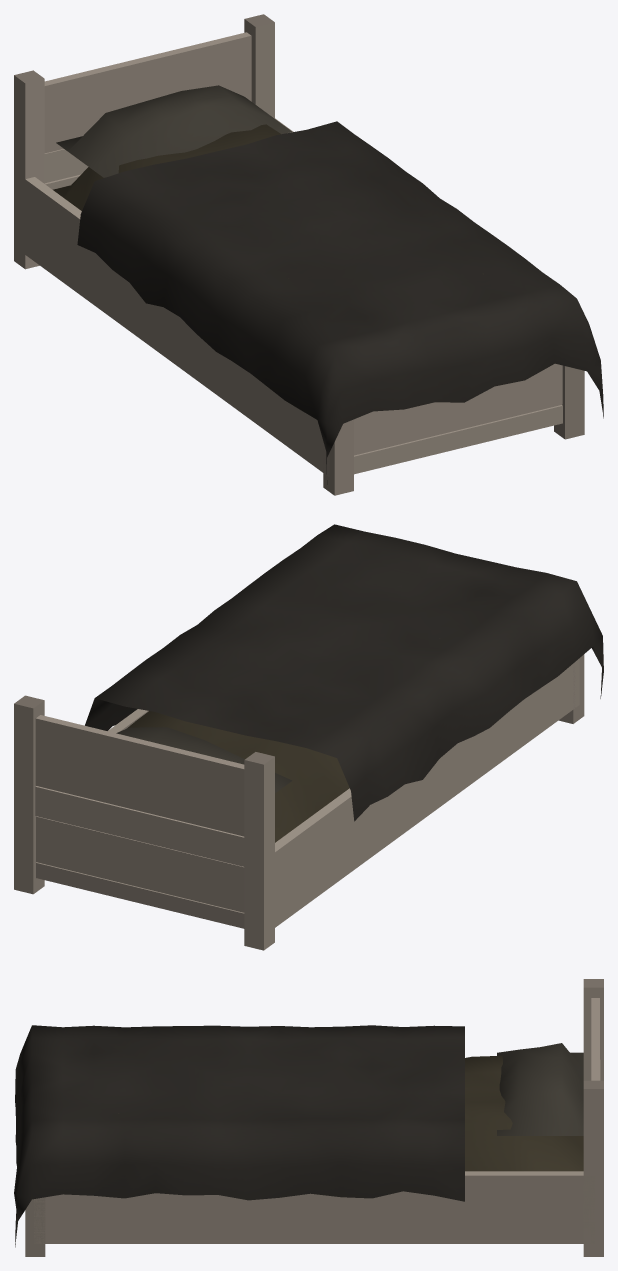
The model's file is prop_bed.glb.
3 views of the same model, one above another, from view 1: azimuth 30°, elevation 25°; view 2: azimuth 150°, elevation 25°; view 3: azimuth 270°, elevation 25° (orthographic). The views are drawn at different scales.
Visible parts, largest first — view 1: BedSoft, Bed; view 2: BedSoft, Bed; view 3: BedSoft, Bed.
Part boxes in pixels (x1,y1,x2,y2): BedSoft: (53,85,603,484); Bed: (14,14,584,495); BedSoft: (85,524,603,842); Bed: (14,654,584,950); BedSoft: (14,1025,583,1247); Bed: (25,979,603,1256).
Bounding box in the file's own units: 1 × 0.64 × 2.04.
